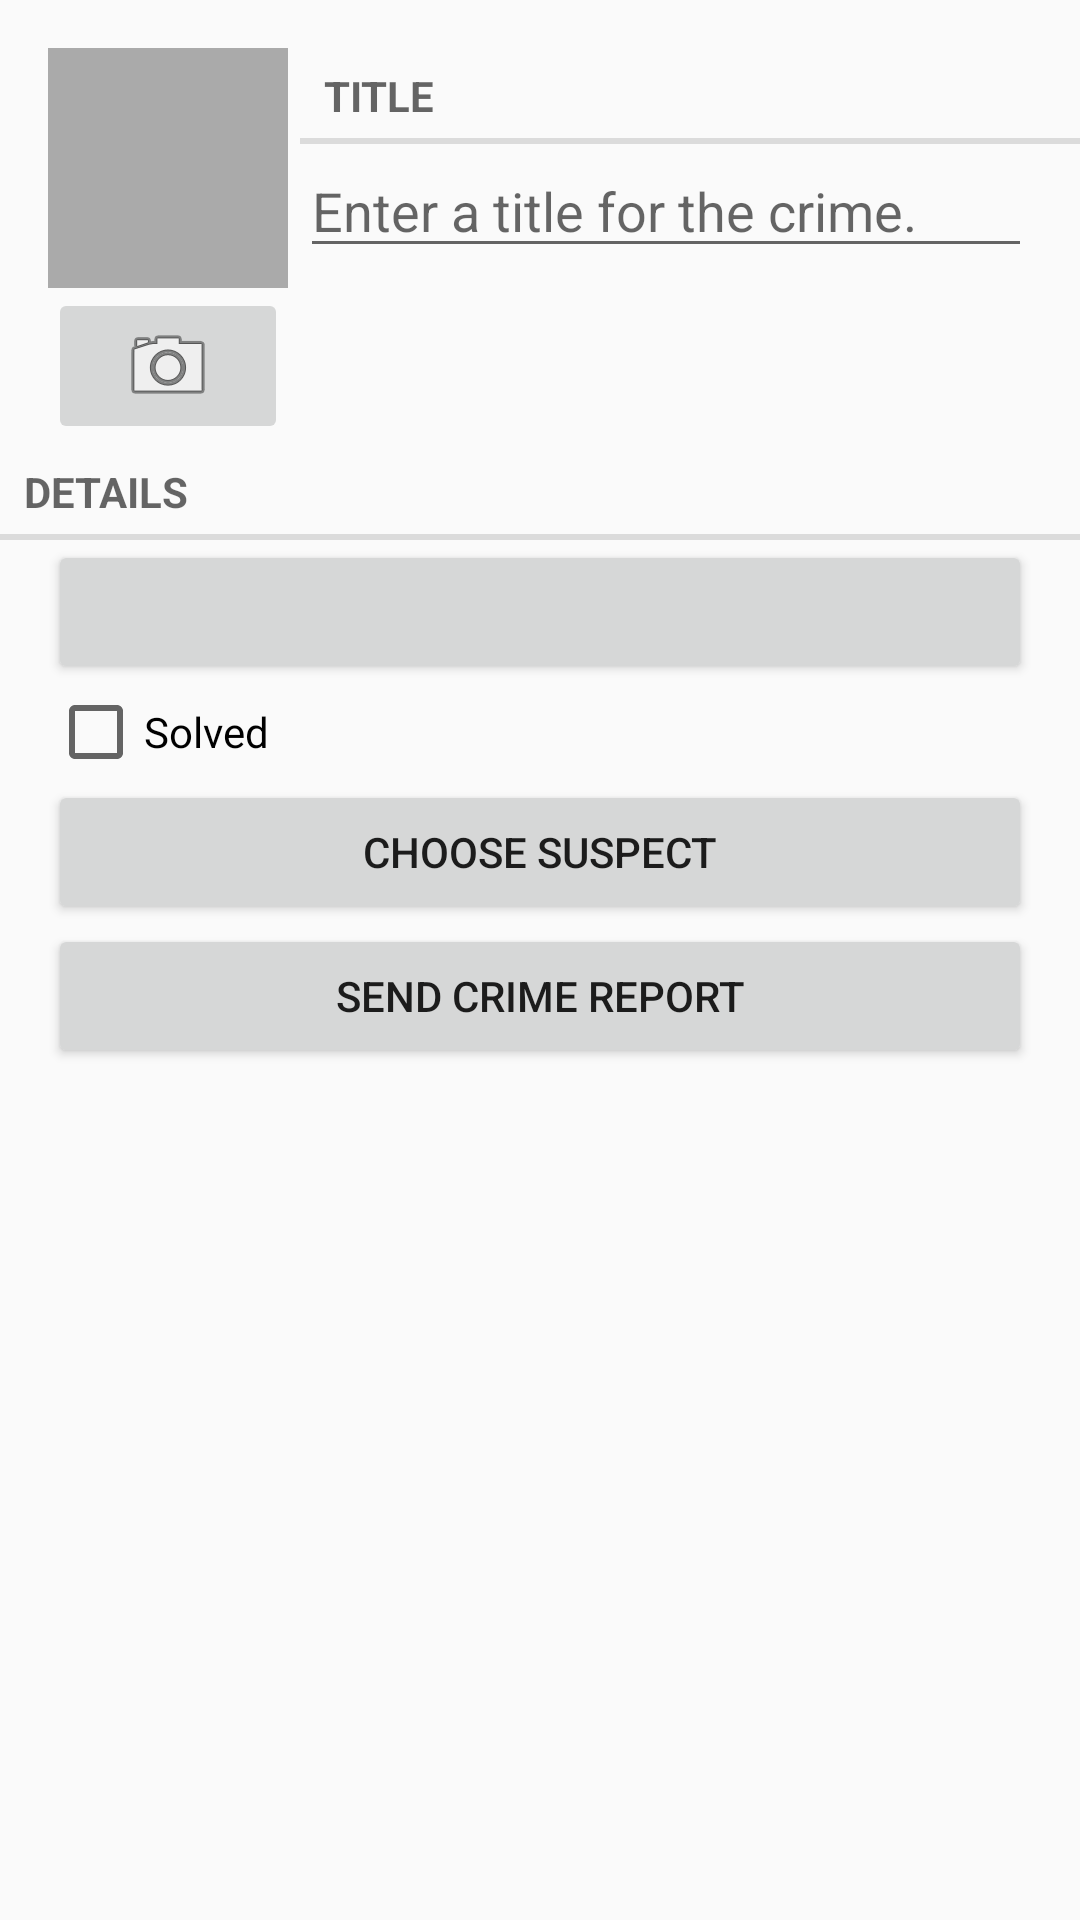

Icon click points for this 1080 x 1920 phone screenshot, format [x,y]:
camera: [168,366]
